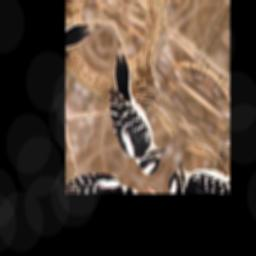Woodpecker: (80, 47, 189, 181)
